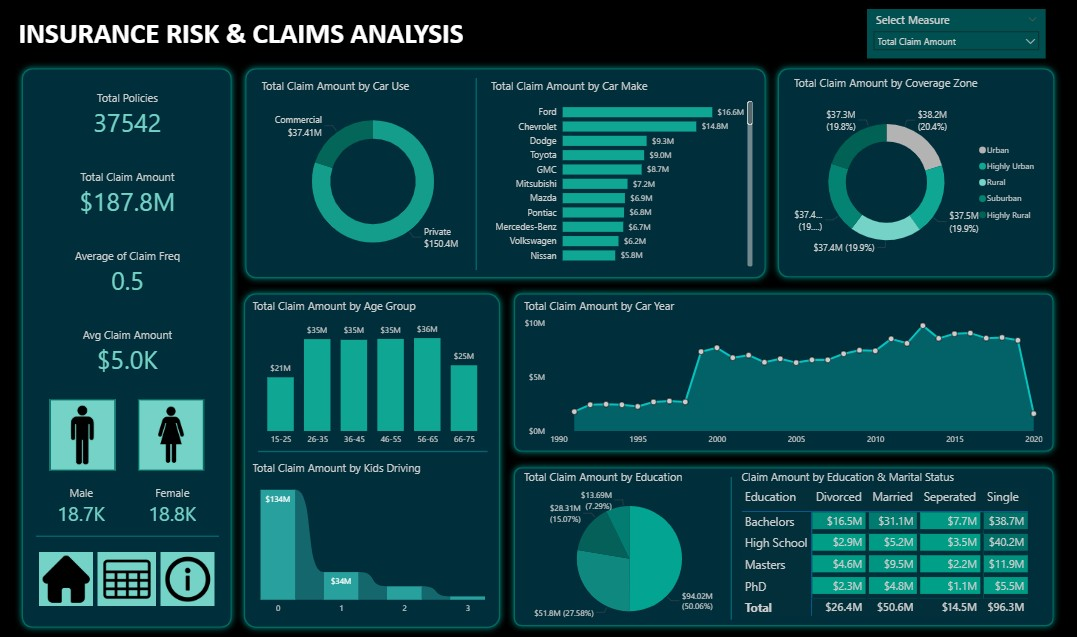

This screenshot's page, from the dashboard's own definition file:
{"tool":"powerbi","page":{"name":"Page 1","canvas":[1600,950],"ordinal":0},"visuals":[{"type":"textbox","box":[22.2,17.8,684.4,62.2],"z":0},{"type":"shape","box":[22.2,91.1,331.1,848.9],"z":1000},{"type":"cardVisual","fields":{"Data":["insurance_data_car.Total Policies","insurance_data_car.Total Claim Amount","Avg(insurance_data_car.Claim Freq)","insurance_data_car.Avg Claim Amount"]},"box":[53.3,115.6,271.1,460],"z":2000},{"type":"cardVisual","fields":{"Data":["insurance_data_car.Male Count","insurance_data_car.Female Count"]},"box":[57.8,697.6,260,102.4],"z":3000,"group":"g1"},{"type":"group","id":"g1","title":"Group 1","box":[57.8,591.1,260,208.9],"z":3000},{"type":"image","box":[73.4,591.1,97.8,106.5],"z":4000,"group":"g1"},{"type":"slicer","fields":{"Values":["Select Measure.Select Measure"]},"box":[1284.4,13.3,264.4,73.3],"z":4000},{"type":"image","box":[204.5,591.1,97.8,106.5],"z":5000,"group":"g1"},{"type":"shape","box":[353.3,91.1,791.1,331.1],"z":5000},{"type":"donutChart","fields":{"Y":["insurance_data_car.Total Claim Amount"],"Category":["insurance_data_car.Car Use"]},"box":[382.2,115.6,340,284.4],"z":6000},{"type":"clusteredBarChart","fields":{"Y":["insurance_data_car.Total Claim Amount"],"Category":["insurance_data_car.Car Make"]},"box":[722.2,115.6,397.8,284.4],"z":7000},{"type":"shape","box":[1142,90,430,330],"z":8000},{"type":"donutChart","fields":{"Y":["insurance_data_car.Total Claim Amount"],"Category":["insurance_data_car.Coverage Zone"]},"box":[1171.1,111.1,375.6,295.6],"z":9000},{"type":"shape","box":[352,424,400,516],"z":10000},{"type":"clusteredColumnChart","fields":{"Y":["insurance_data_car.Total Claim Amount"],"Category":["insurance_data_car.Age Group"]},"box":[368,442,366,226],"z":11000},{"type":"ribbonChart","fields":{"Y":["insurance_data_car.Total Claim Amount"],"Category":["insurance_data_car.Kids Driving"]},"box":[368,682,366,236],"z":12000},{"type":"shape","box":[752,424,820,255],"z":13000},{"type":"areaChart","fields":{"Y":["insurance_data_car.Total Claim Amount"],"Category":["insurance_data_car.Car Year"]},"box":[770,442,778,226],"z":14000},{"type":"shape","box":[751.1,682.2,820,255.6],"z":15000},{"type":"pieChart","fields":{"Y":["insurance_data_car.Total Claim Amount"],"Category":["insurance_data_car.Education"]},"box":[771.1,695.6,322.2,242.2],"z":16000},{"type":"pivotTable","title":"Claim Amount by Education & Marital Status","fields":{"Rows":["insurance_data_car.Education"],"Columns":["insurance_data_car.Marital Status"],"Values":["insurance_data_car.Total Claim Amount"]},"box":[1093.3,695.6,477.8,222.2],"z":17000},{"type":"shape","box":[555.6,115.6,300,284.4],"z":18000},{"type":"shape","box":[933.3,706.7,300,211.1],"z":19000},{"type":"shape","box":[382.2,557.8,340,222.2],"z":20000},{"type":"shape","box":[53.3,682.2,271.1,224.4],"z":21000},{"type":"image","box":[144.4,817.8,86.7,80],"z":21001},{"type":"image","box":[57.8,817.8,80,80],"z":21002},{"type":"image","box":[237.8,817.8,80,80],"z":21003}]}

Visuals, with their boxes in screenshot pixels (x1, y1, x2, y2), scaled from the page's 1600x950 canvas onto the 1077x637 screenshot:
textbox: rect(15, 12, 476, 54)
shape: rect(15, 61, 238, 630)
cardVisual - insurance_data_car.Total Policies x insurance_data_car.Total Claim Amount: rect(36, 78, 218, 386)
cardVisual - insurance_data_car.Male Count x insurance_data_car.Female Count: rect(39, 468, 214, 536)
"Group 1" group: rect(39, 396, 214, 536)
image: rect(49, 396, 115, 468)
slicer - Select Measure.Select Measure: rect(865, 9, 1043, 58)
image: rect(138, 396, 203, 468)
shape: rect(238, 61, 770, 283)
donutChart - insurance_data_car.Total Claim Amount x insurance_data_car.Car Use: rect(257, 78, 486, 268)
clusteredBarChart - insurance_data_car.Total Claim Amount x insurance_data_car.Car Make: rect(486, 78, 754, 268)
shape: rect(769, 60, 1058, 282)
donutChart - insurance_data_car.Total Claim Amount x insurance_data_car.Coverage Zone: rect(788, 74, 1041, 273)
shape: rect(237, 284, 506, 630)
clusteredColumnChart - insurance_data_car.Total Claim Amount x insurance_data_car.Age Group: rect(248, 296, 494, 448)
ribbonChart - insurance_data_car.Total Claim Amount x insurance_data_car.Kids Driving: rect(248, 457, 494, 616)
shape: rect(506, 284, 1058, 455)
areaChart - insurance_data_car.Total Claim Amount x insurance_data_car.Car Year: rect(518, 296, 1042, 448)
shape: rect(506, 457, 1058, 629)
pieChart - insurance_data_car.Total Claim Amount x insurance_data_car.Education: rect(519, 466, 736, 629)
"Claim Amount by Education & Marital Status" pivotTable: rect(736, 466, 1058, 615)
shape: rect(374, 78, 576, 268)
shape: rect(628, 474, 830, 615)
shape: rect(257, 374, 486, 523)
shape: rect(36, 457, 218, 608)
image: rect(97, 548, 156, 602)
image: rect(39, 548, 93, 602)
image: rect(160, 548, 214, 602)
